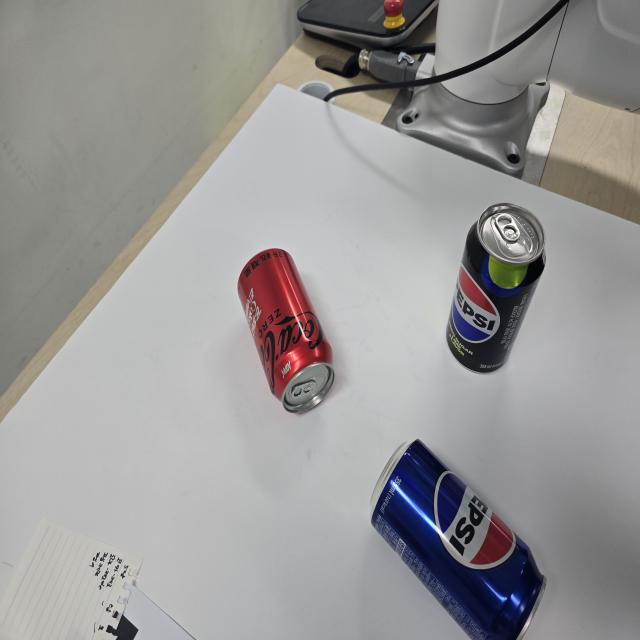can_coke_zero: (237, 248, 335, 413)
can_pepsi: (371, 440, 545, 640)
can_pepsi_zero: (448, 203, 545, 372)
